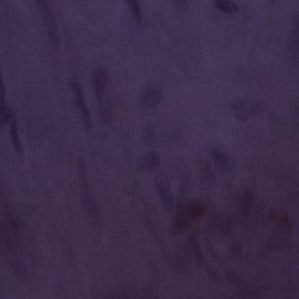Lymphocyte: (169, 200, 204, 229)
